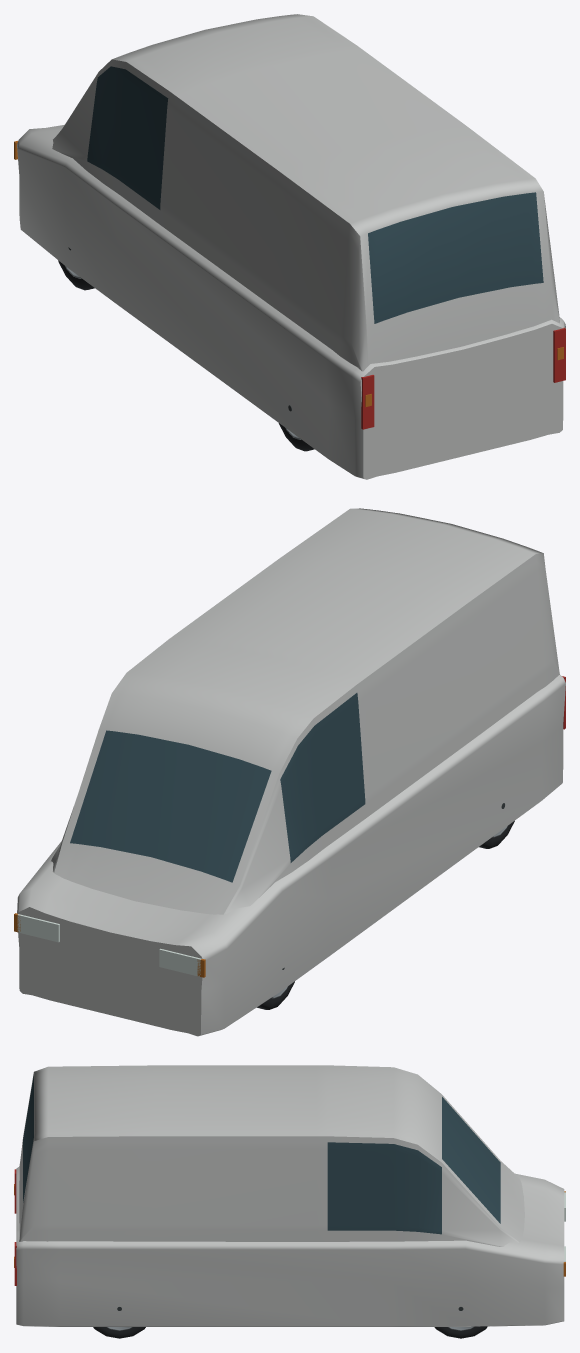
File: courier-lod.glb
The picture shows the model from 3 angles, top to bottom: view 1: azimuth 30°, elevation 25°; view 2: azimuth 150°, elevation 25°; view 3: azimuth 270°, elevation 25°; orthographic projection. The views are drawn at different scales.
Parts seen in each view (by area): view 1: paint, glass, brake; view 2: paint, glass, head; view 3: paint, glass, wheelSurface (×2).
Part boxes in pixels (x1,y1,x2,y2): paint: [17, 14, 565, 479]; glass: [87, 66, 543, 323]; brake: [361, 327, 565, 429]; paint: [17, 508, 565, 1036]; glass: [70, 693, 365, 882]; head: [17, 914, 201, 976]; paint: [16, 1065, 564, 1326]; glass: [23, 1075, 500, 1234]; wheelSurface (×2): [93, 1307, 487, 1338].
Size of the model in its own units: 2.03 by 2.35 by 5.72.
